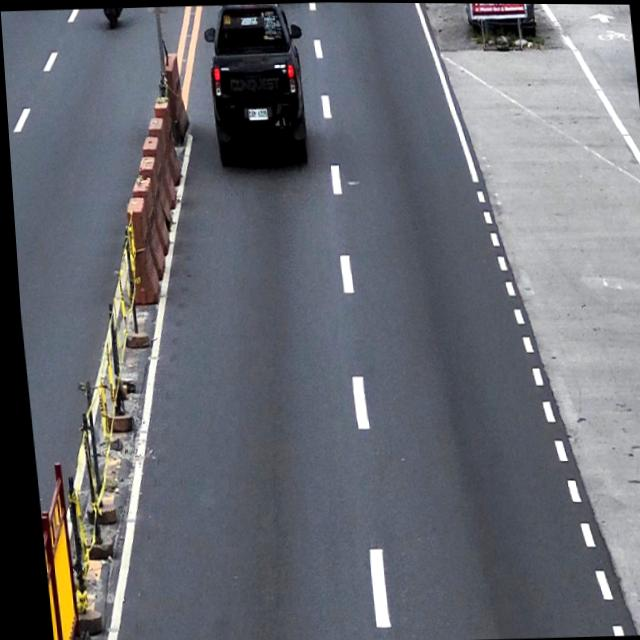Car: (200, 2, 313, 167)
License-Plate: (245, 107, 267, 121)
